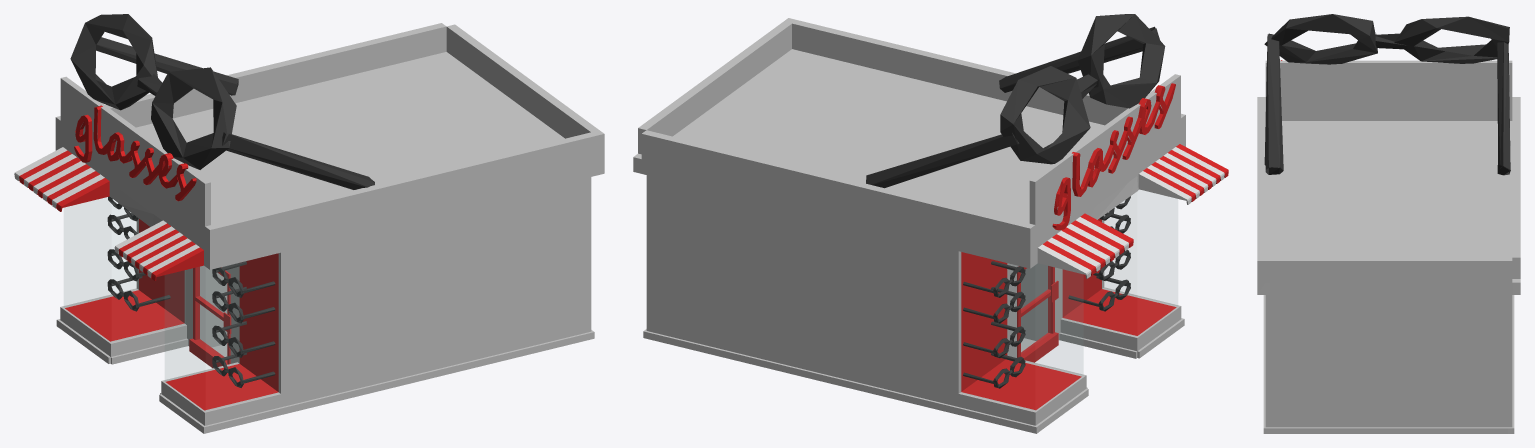
Rendered from SM_Optica.fbx.
3 views of the same model, side by side, from view 1: azimuth 30°, elevation 25°; view 2: azimuth 150°, elevation 25°; view 3: azimuth 270°, elevation 25° (orthographic). The views are drawn at different scales.
Visible parts, largest first — view 1: Edificio, Gafas, FondoEscaparate, Escaparate01, Escaparate02, Toldo01, Toldo02, Rotulo, Puerta; view 2: Edificio, Gafas, FondoEscaparate, Escaparate02, Escaparate01, Rotulo, Toldo01, Toldo02, Puerta; view 3: Edificio, Gafas.
Boxes of the visible parts, box(x1,y1,x2,y2) form: Edificio: box(55, 23, 604, 433); Gafas: box(70, 14, 374, 387); FondoEscaparate: box(65, 219, 278, 410); Escaparate01: box(165, 266, 238, 380); Escaparate02: box(64, 197, 137, 306); Toldo01: box(14, 147, 109, 211); Toldo02: box(114, 220, 203, 280); Rotulo: box(74, 105, 196, 201); Puerta: box(189, 266, 231, 368); Edificio: box(633, 18, 1185, 433); Gafas: box(866, 14, 1165, 388); FondoEscaparate: box(961, 218, 1176, 410); Escaparate02: box(1009, 264, 1082, 374); Escaparate01: box(1103, 190, 1177, 305); Rotulo: box(1052, 83, 1175, 230); Toldo01: box(1037, 213, 1133, 278); Toldo02: box(1138, 144, 1228, 204); Puerta: box(1017, 266, 1058, 362); Edificio: box(1257, 60, 1520, 433); Gafas: box(1264, 14, 1510, 175).
Bounding box in the file's own units: 513 × 360 × 310.
